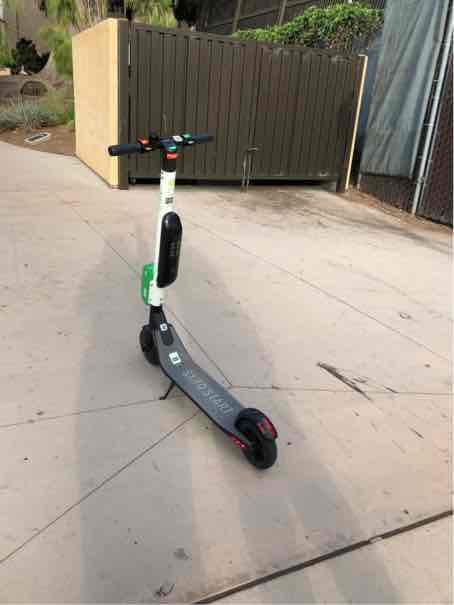scooter: (113, 122, 292, 473)
